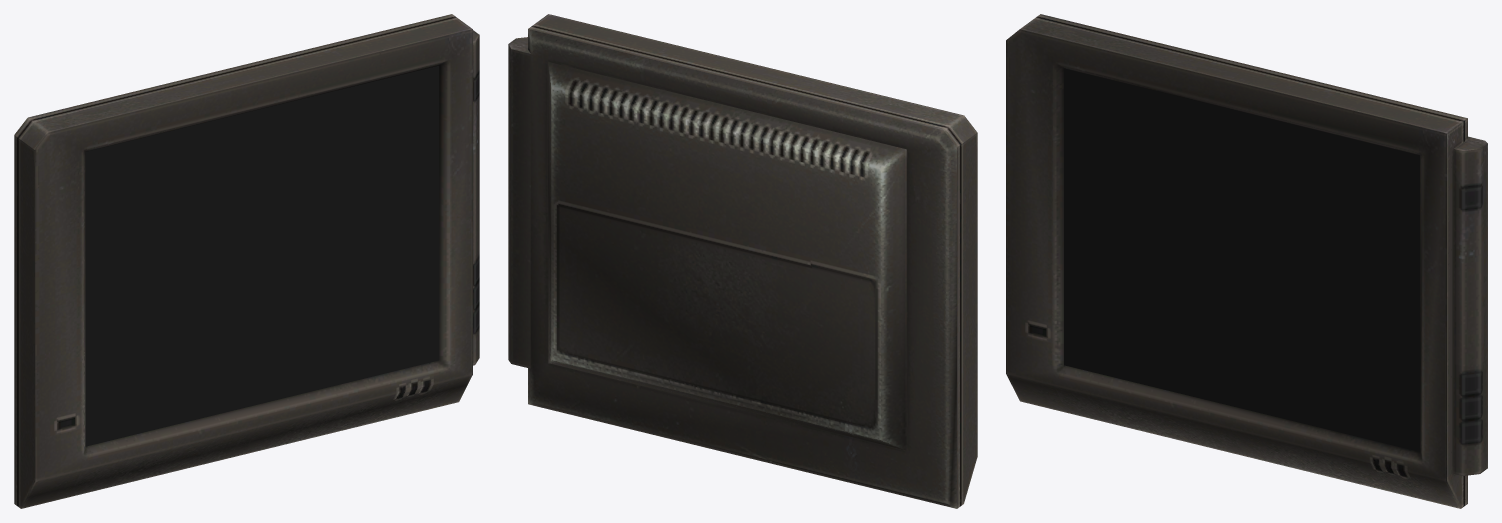
Rendered from computer_panel_medium_GUI.dae.
3 renders of one model, left to right at view 1: azimuth 30°, elevation 25°; view 2: azimuth 150°, elevation 25°; view 3: azimuth 330°, elevation 25°, orthographic. The views are drawn at different scales.
Visible parts, largest first — view 1: medium_screen, computer_panel_medium; view 2: computer_panel_medium; view 3: medium_screen, computer_panel_medium.
Part boxes in pixels (left/top/right/bottom): medium_screen: left=85, top=65, right=439, bottom=446; computer_panel_medium: left=14, top=14, right=479, bottom=508; computer_panel_medium: left=508, top=14, right=977, bottom=508; medium_screen: left=1064, top=68, right=1419, bottom=451; computer_panel_medium: left=1006, top=14, right=1487, bottom=508.
Bounding box in the file's own units: 1.02 × 0.8123 × 0.1336.
